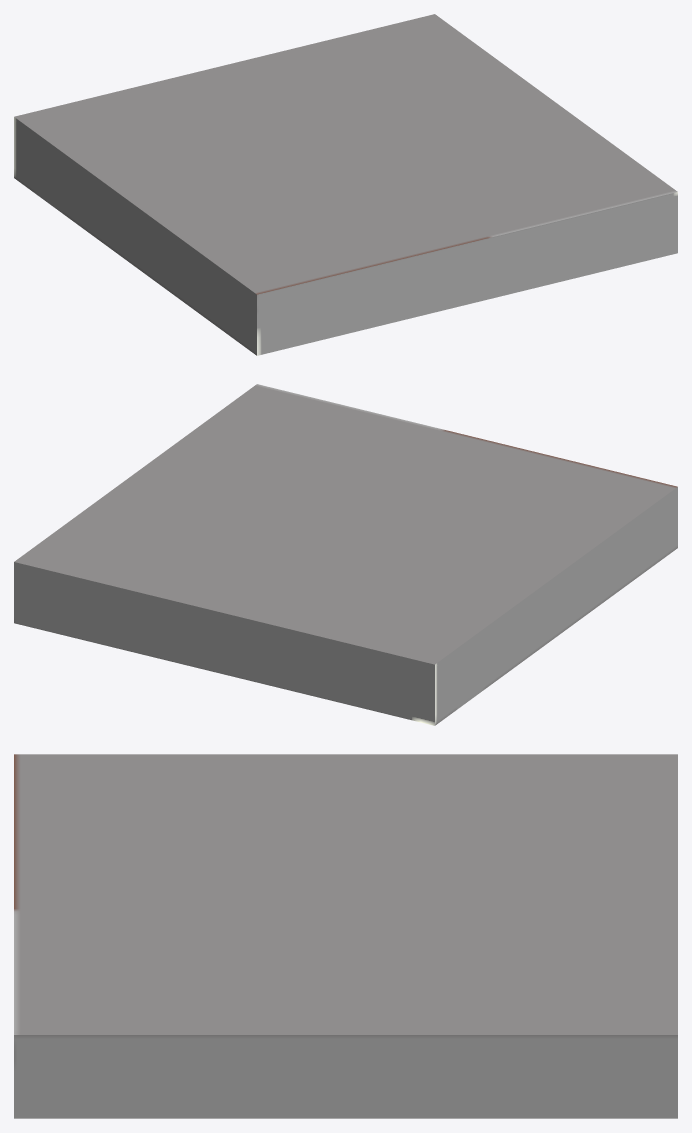
The model's file is Cabin_Light_Square.fbx.
The picture shows the model from 3 angles, top to bottom: view 1: azimuth 30°, elevation 25°; view 2: azimuth 150°, elevation 25°; view 3: azimuth 270°, elevation 25°; orthographic projection. The views are drawn at different scales.
Parts seen in each view (by area): view 1: room.002; view 2: room.002; view 3: room.002.
Boxes of the visible parts, bbox=[...] form: room.002: bbox=[14, 14, 677, 355]; room.002: bbox=[14, 384, 677, 725]; room.002: bbox=[14, 754, 677, 1118].
Bounding box in the file's own units: 77.78 × 10.82 × 77.78.
1 material, 1 textured.
